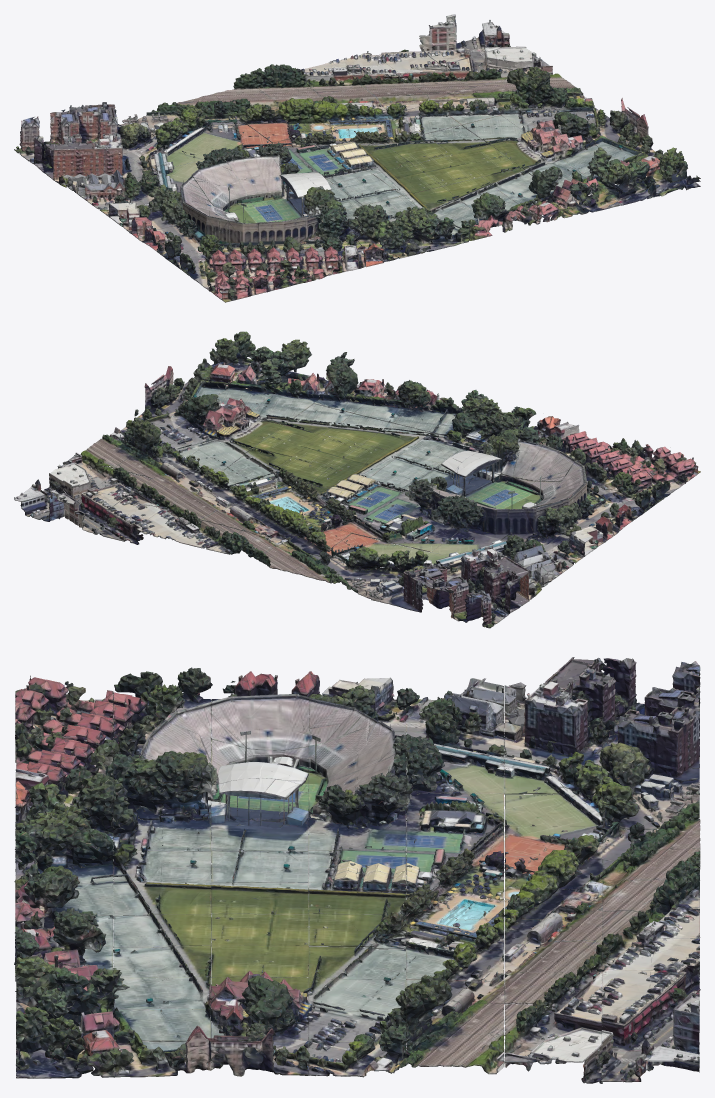
The model's file is stadium02.glb.
The picture shows the model from 3 angles, top to bottom: view 1: azimuth 30°, elevation 25°; view 2: azimuth 150°, elevation 25°; view 3: azimuth 270°, elevation 25°; orthographic projection. The views are drawn at different scales.
Visible parts, largest first — view 1: Object_4; view 2: Object_4; view 3: Object_4.
Part boxes in pixels (bbox=[...]): Object_4: bbox=[14, 14, 700, 302]; Object_4: bbox=[14, 331, 700, 628]; Object_4: bbox=[14, 657, 700, 1083].
Bounding box in the file's own units: 349 × 37.3 × 268.
Materials: 1 (1 with a texture image).
